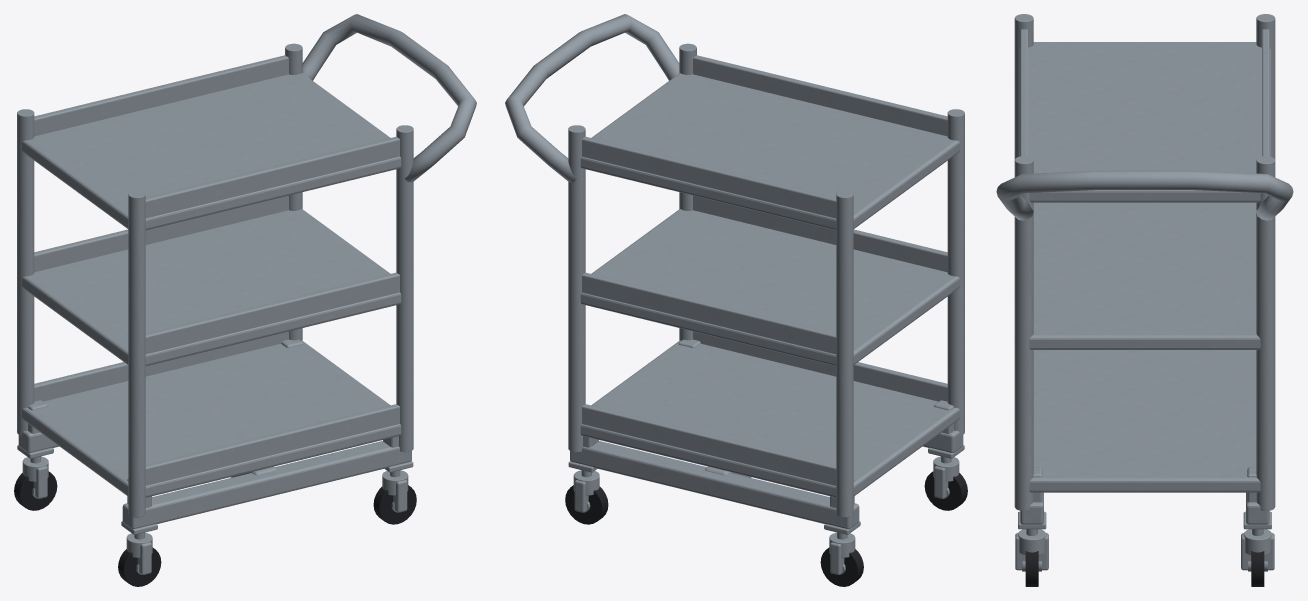
The model's file is medical-supply-cart.glb.
3 views of the same model, side by side, from view 1: azimuth 30°, elevation 25°; view 2: azimuth 150°, elevation 25°; view 3: azimuth 270°, elevation 25° (orthographic). The views are drawn at different scales.
Parts seen in each view (by area): view 1: Supply trolley tray.002, Supply trolley tray.001, Supply trolley tray, Caster base crossbar, Supply trolley post, Trolley push handle, Tray edge.004, Tray edge, Tray edge.002, Supply trolley post.002, Tray edge.005, Supply trolley post.001 (+7 smaller); view 2: Supply trolley tray.002, Supply trolley tray.001, Supply trolley tray, Caster base crossbar.001, Supply trolley post.001, Trolley push handle, Tray edge.005, Tray edge.001, Tray edge.003, Supply trolley post.003, Tray edge.004, Supply trolley post (+7 smaller); view 3: Supply trolley tray.002, Supply trolley tray.001, Supply trolley tray, Trolley push handle, Supply trolley post.002, Supply trolley post.003, Supply trolley post, Supply trolley post.001, Tray edge.004, Tray edge.005, Caster swivel.002, Caster swivel.003 (+6 smaller).
Part boxes in pixels (left/top/right/bottom): Supply trolley tray.002: left=22, top=73, right=401, bottom=230; Supply trolley tray.001: left=22, top=209, right=401, bottom=365; Supply trolley tray: left=22, top=340, right=401, bottom=497; Caster base crossbar: left=122, top=441, right=411, bottom=529; Supply trolley post: left=128, top=190, right=145, bottom=517; Trolley push handle: left=302, top=14, right=476, bottom=182; Tray edge.004: left=145, top=136, right=399, bottom=218; Tray edge: left=145, top=404, right=399, bottom=485; Tray edge.002: left=145, top=272, right=399, bottom=354; Supply trolley post.002: left=396, top=125, right=413, bottom=452; Tray edge.005: left=34, top=55, right=288, bottom=136; Supply trolley post.001: left=17, top=109, right=34, bottom=435; Supply trolley tray.002: left=580, top=73, right=959, bottom=230; Supply trolley tray.001: left=580, top=209, right=959, bottom=365; Supply trolley tray: left=580, top=340, right=959, bottom=497; Caster base crossbar.001: left=570, top=441, right=859, bottom=529; Supply trolley post.001: left=836, top=190, right=853, bottom=517; Trolley push handle: left=505, top=14, right=679, bottom=182; Tray edge.005: left=582, top=136, right=836, bottom=218; Tray edge.001: left=582, top=404, right=836, bottom=485; Tray edge.003: left=582, top=272, right=836, bottom=354; Supply trolley post.003: left=568, top=125, right=585, bottom=452; Tray edge.004: left=693, top=55, right=947, bottom=136; Supply trolley post: left=947, top=109, right=964, bottom=435; Supply trolley tray.002: left=1019, top=42, right=1270, bottom=202; Supply trolley tray.001: left=1029, top=202, right=1260, bottom=349; Supply trolley tray: left=1029, top=350, right=1260, bottom=492; Trolley push handle: left=996, top=170, right=1293, bottom=220; Supply trolley post.002: left=1014, top=156, right=1033, bottom=510; Supply trolley post.003: left=1256, top=156, right=1275, bottom=510; Supply trolley post: left=1014, top=14, right=1033, bottom=159; Supply trolley post.001: left=1256, top=14, right=1275, bottom=159; Tray edge.004: left=1020, top=29, right=1027, bottom=156; Tray edge.005: left=1262, top=29, right=1269, bottom=156; Caster swivel.002: left=1018, top=529, right=1046, bottom=555; Caster swivel.003: left=1243, top=529, right=1271, bottom=555.
Bounding box in the file's own units: 0.8553 × 0.9531 × 0.5659.
2 materials, 2 textured.
